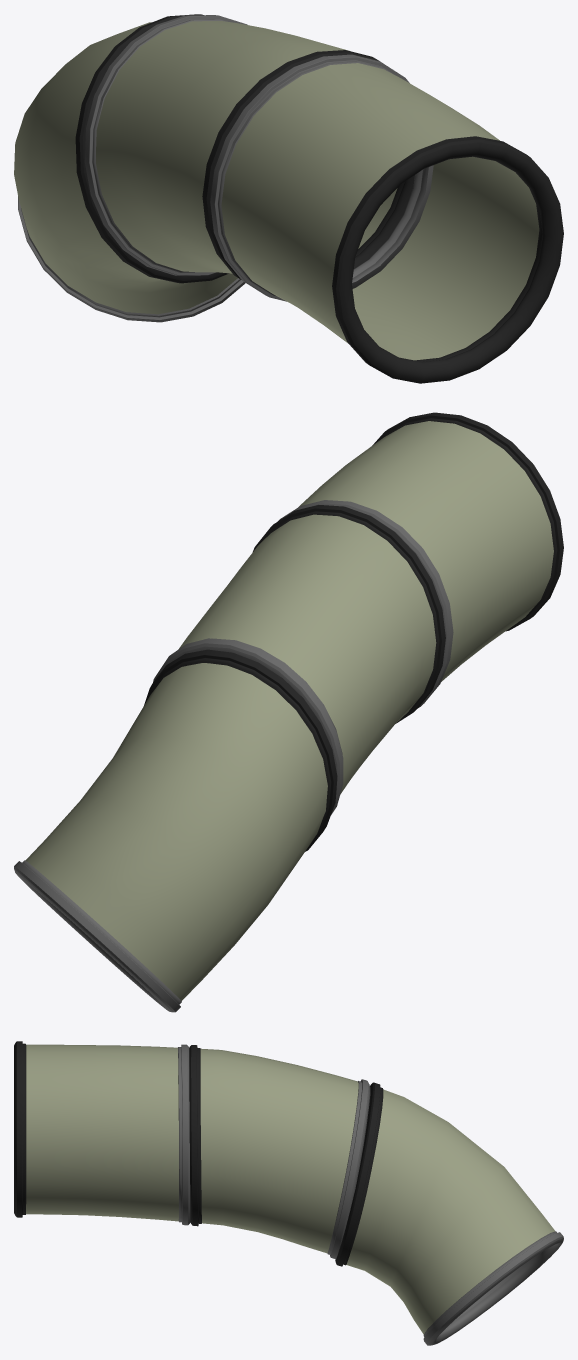
File: SM_Tunnel_01.fbx
3 renders of one model, top to bottom at view 1: azimuth 30°, elevation 25°; view 2: azimuth 150°, elevation 25°; view 3: azimuth 270°, elevation 25°, orthographic. The views are drawn at different scales.
Parts seen in each view (by area): view 1: Cylinder.003; view 2: Cylinder.003; view 3: Cylinder.003.
Part boxes in pixels (box(x1,y1,x2,y2)): Cylinder.003: box(14, 14, 563, 383); Cylinder.003: box(14, 412, 563, 1012); Cylinder.003: box(14, 1041, 563, 1345).
Bounding box in the file's own units: 548 × 824 × 1460.
